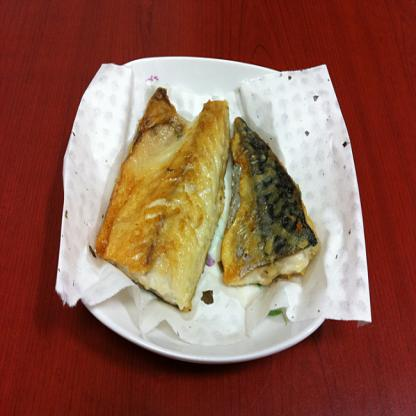Peixe: (84, 84, 339, 315)
